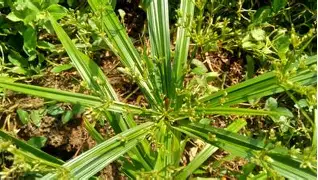weed: (73, 41, 237, 147)
